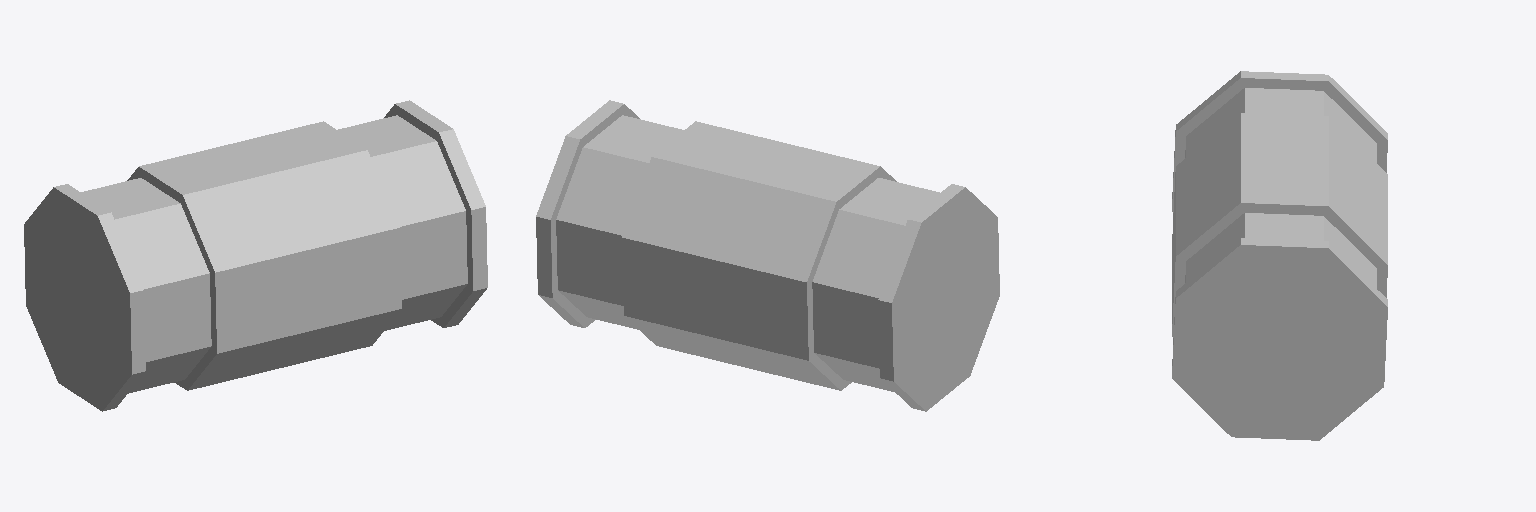
The picture shows the model from 3 angles: view 1: azimuth 30°, elevation 25°; view 2: azimuth 150°, elevation 25°; view 3: azimuth 270°, elevation 25°; orthographic projection.
Visible parts, largest first — view 1: Dynamo; view 2: Dynamo; view 3: Dynamo.
Boxes of the visible parts, x1=… form: Dynamo: x1=24, y1=100, x2=487, y2=411; Dynamo: x1=536, y1=100, x2=999, y2=411; Dynamo: x1=1172, y1=71, x2=1387, y2=440.
Bounding box in the file's own units: 3.56 × 1.87 × 1.87.